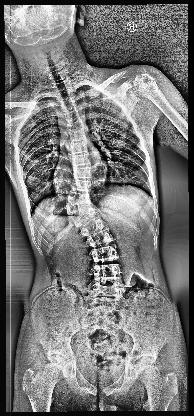Vertebrae: (92, 264, 126, 278), (86, 247, 123, 259), (74, 222, 110, 232), (82, 234, 117, 244), (69, 212, 102, 222), (63, 194, 99, 202), (65, 170, 101, 178), (66, 182, 100, 190), (66, 141, 94, 150), (46, 91, 84, 97), (66, 158, 98, 165), (62, 205, 98, 211), (64, 132, 94, 139), (45, 82, 79, 88), (53, 100, 86, 106), (60, 112, 86, 119), (63, 122, 89, 128)
